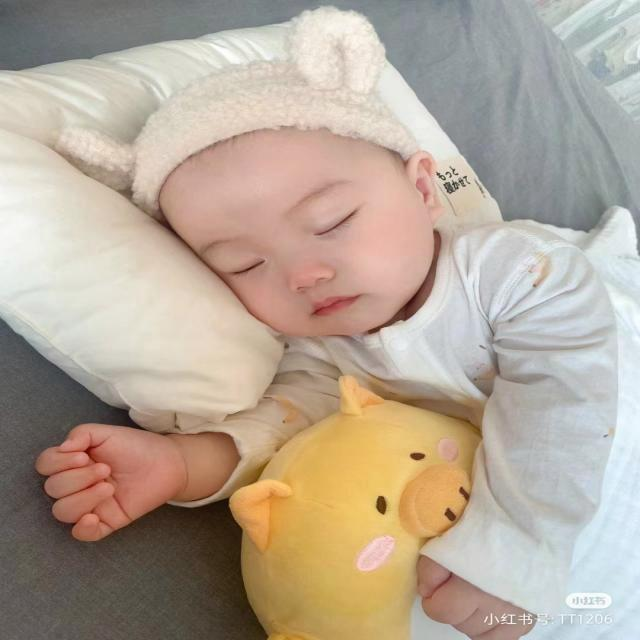child: (133, 111, 487, 345)
